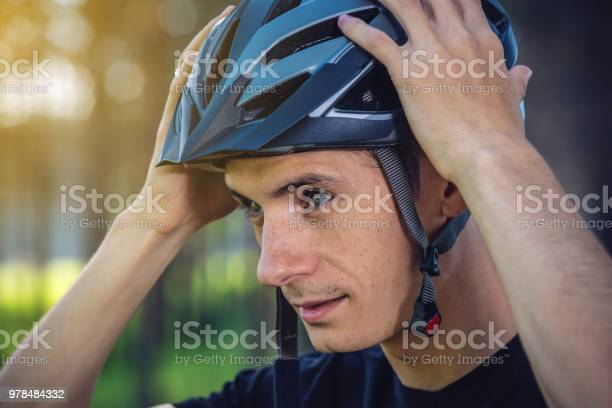helmet: (154, 1, 519, 354)
